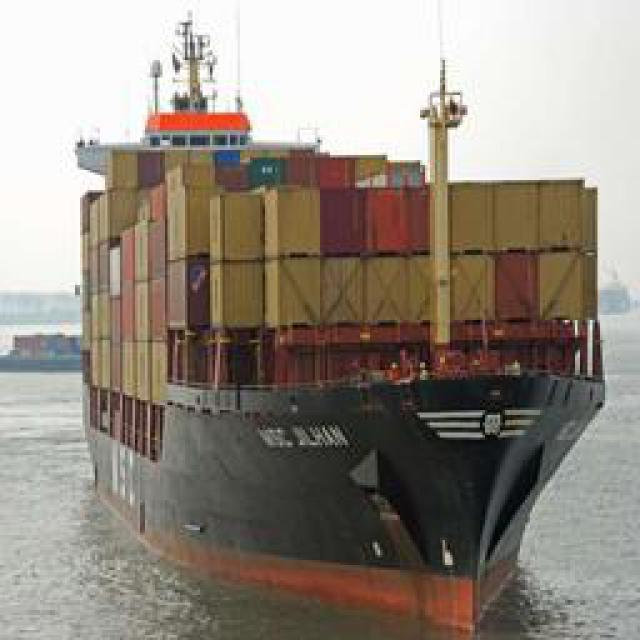Ship: (66, 39, 614, 629)
